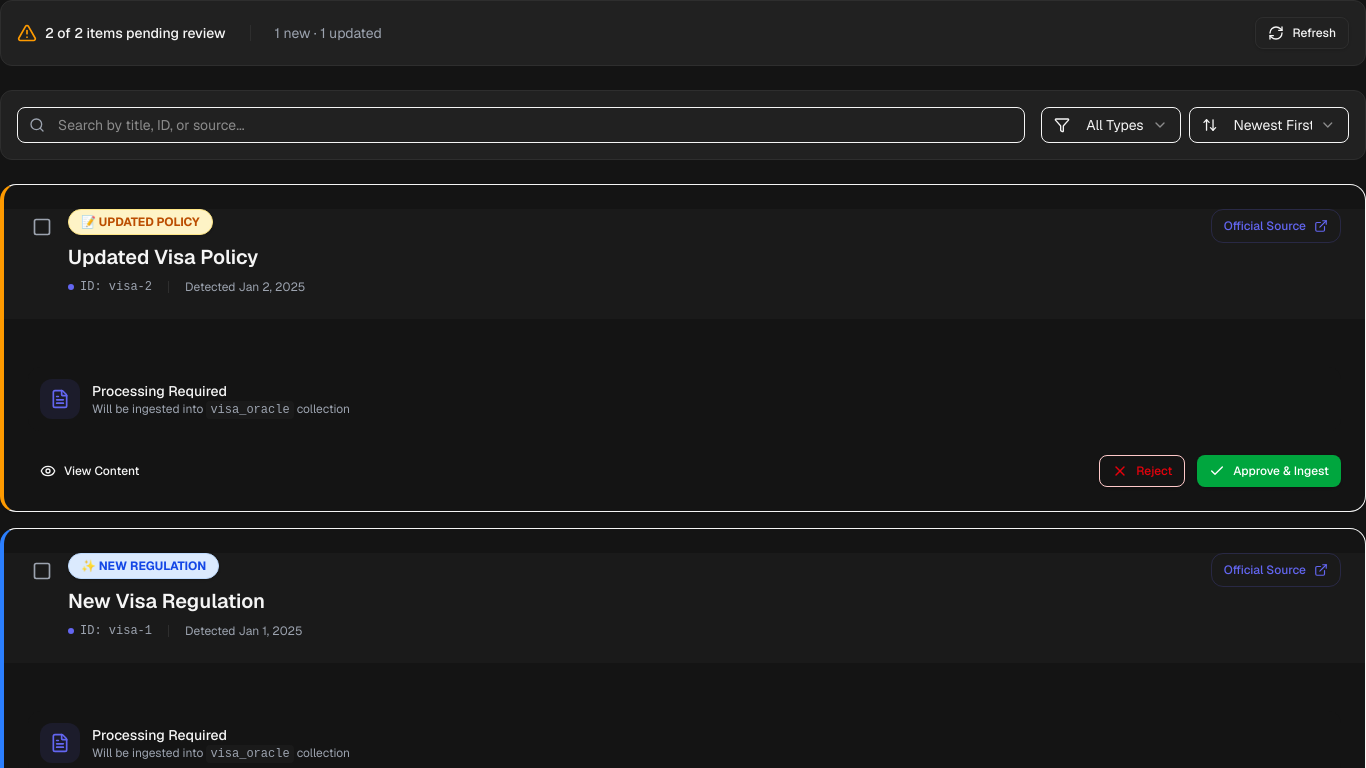
VisaOraclePage › Bulk Operations › should toggle item selection with checkbox
This screenshot has width=1366, height=768.
expect the text "New Visa Regulation" is shown: met, box [68, 588, 265, 614]
Note: Click first checkbox
What coordinates should you click on to do the following:
click the button named "Select"
I would click on:
 (42, 227)
Its box is [28, 213, 56, 241].
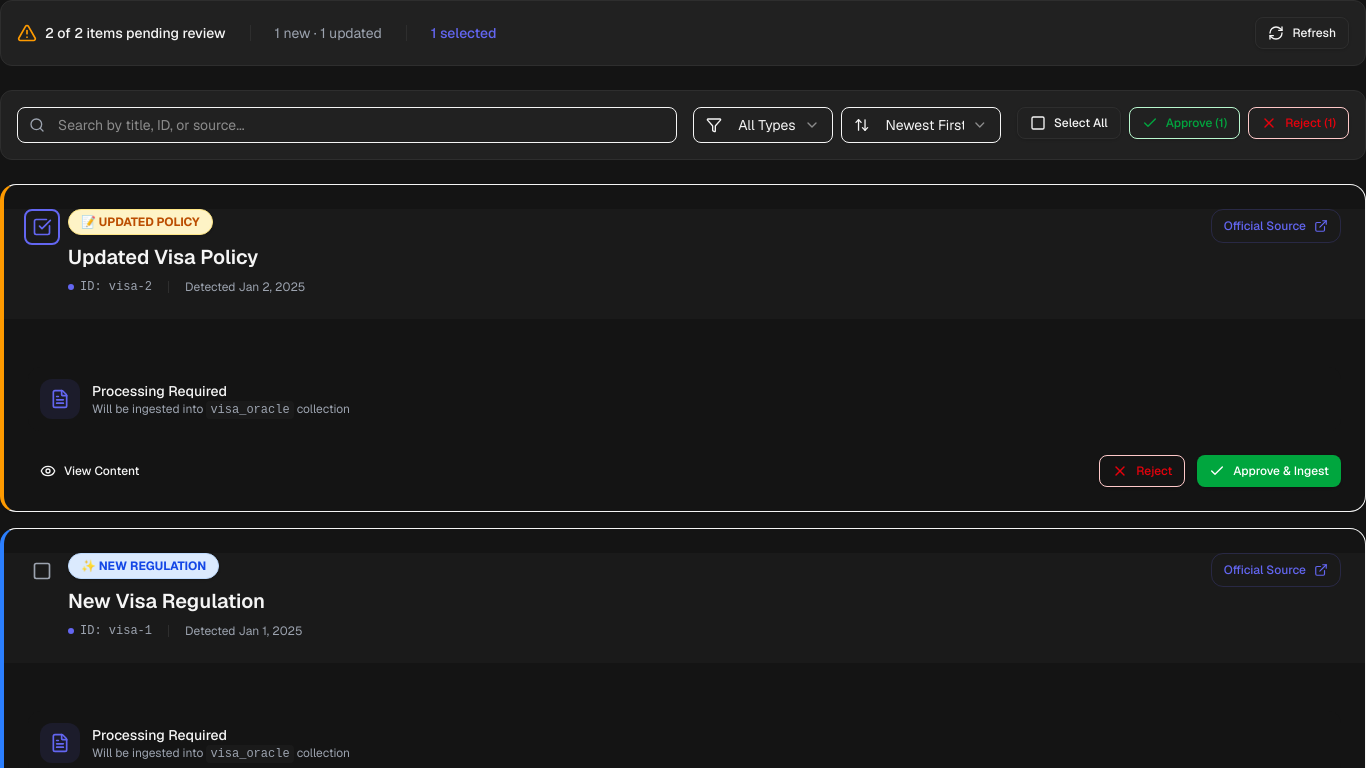
expect the text "1 selected" is shown: met, box [431, 23, 496, 43]
